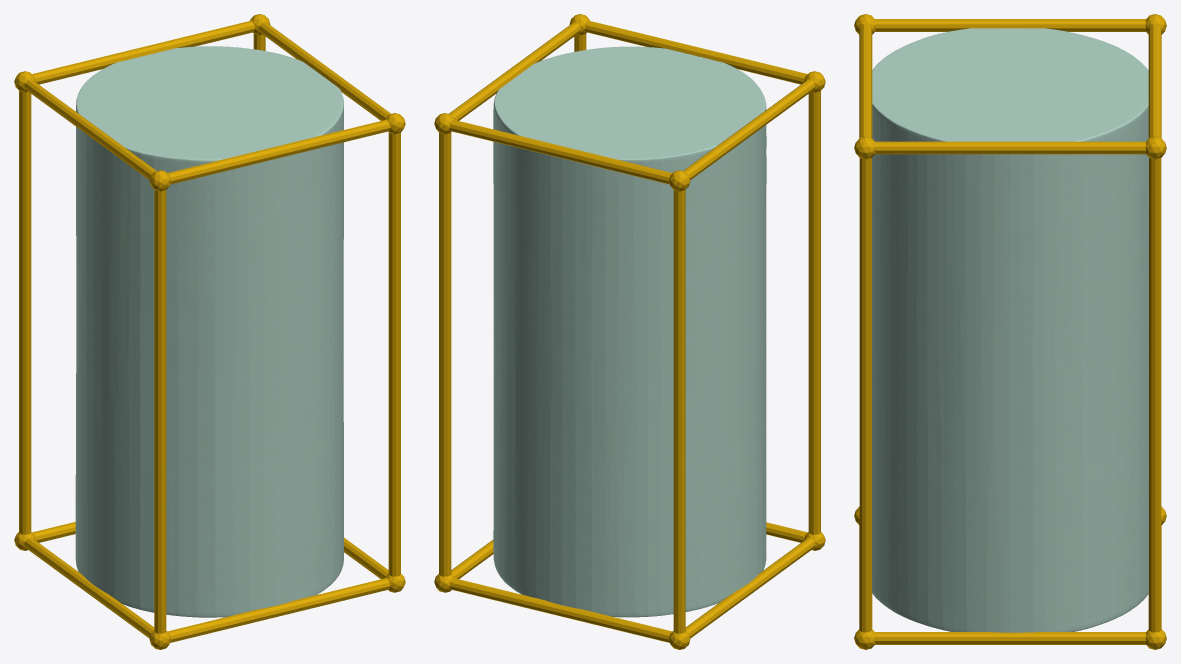
Rendered from sam3d_with_obb_viewer.glb.
The picture shows the model from 3 angles, left to right: view 1: azimuth 30°, elevation 25°; view 2: azimuth 150°, elevation 25°; view 3: azimuth 270°, elevation 25°; orthographic projection. The views are drawn at different scales.
Parts seen in each view (by area): view 1: world; view 2: world; view 3: world.
Boxes of the visible parts, <box> form: world: <box>14,14,405,649</box>; world: <box>434,14,825,649</box>; world: <box>854,14,1166,649</box>.
Size of the model in its own units: 0.027 by 0.0487 by 0.027.
